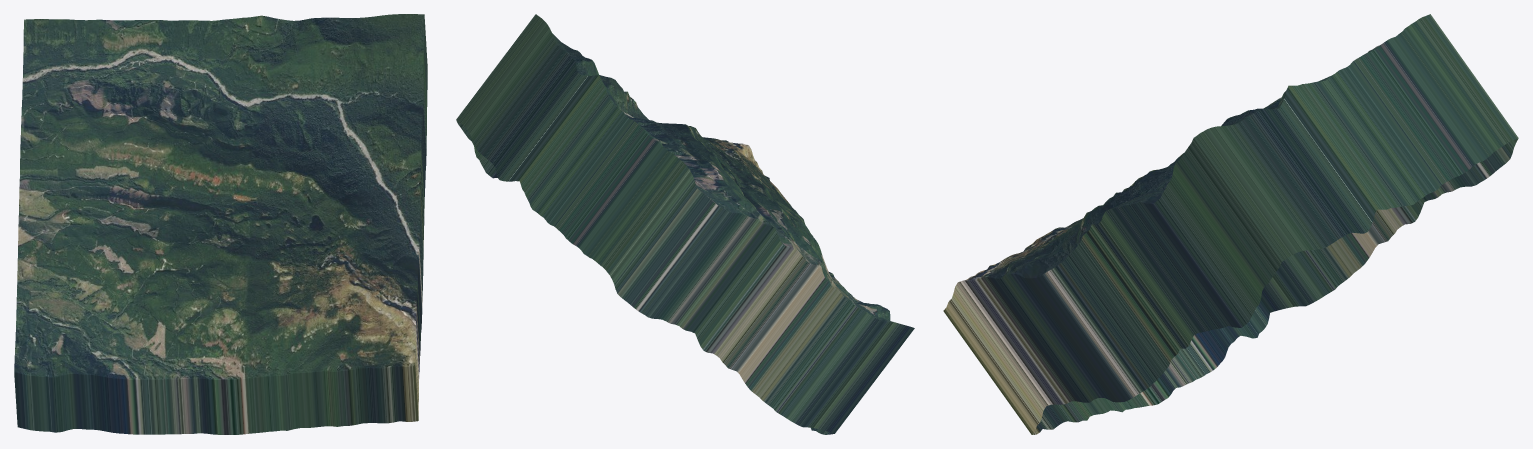
3 renders of one model, left to right at view 1: azimuth 30°, elevation 25°; view 2: azimuth 150°, elevation 25°; view 3: azimuth 270°, elevation 25°, orthographic. The views are drawn at different scales.
Size of the model in its own units: 10853 by 8081 by 11333.
Materials: 1 (1 with a texture image).
